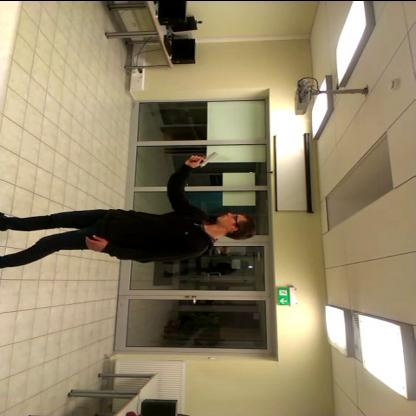Pistol: (184, 149, 221, 168)
